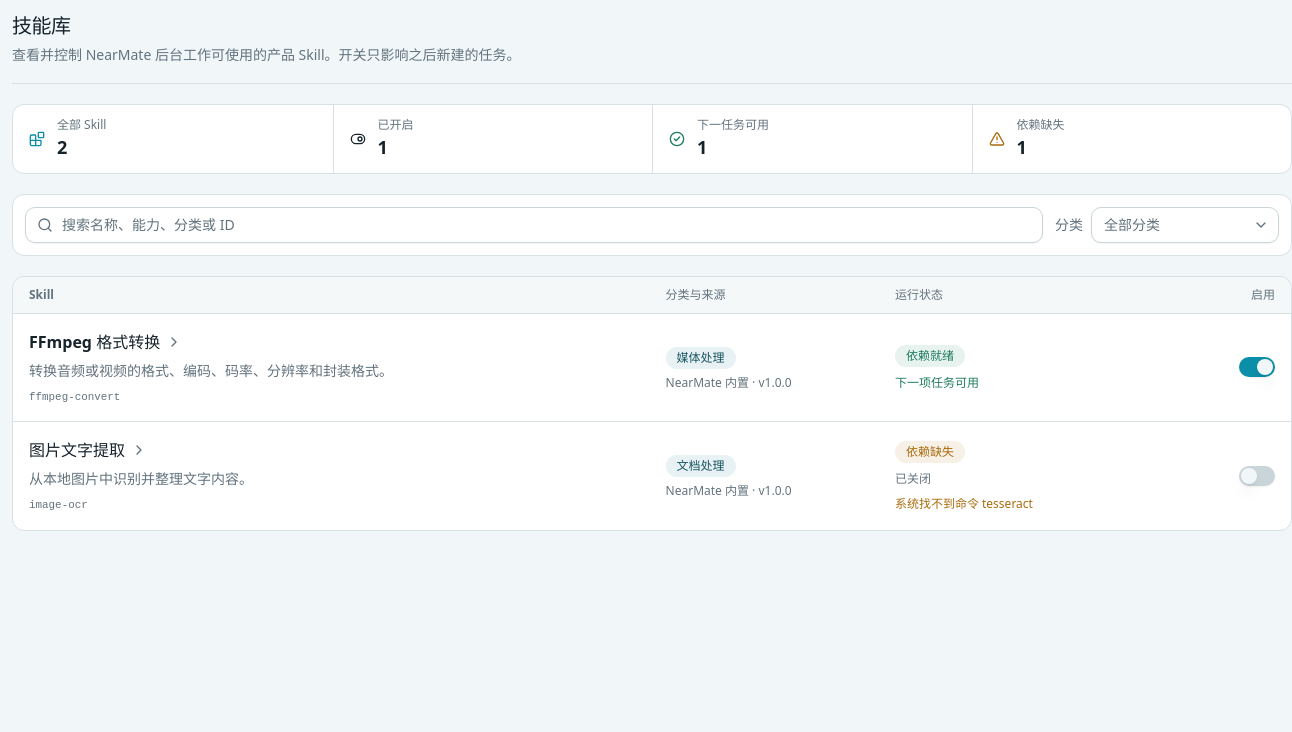
Test: skill library page › 版本冲突时展示原因并重新读取权威列表
Click the switch named "关闭 FFmpeg 格式转换" at [1257, 367], box x1=1239 y1=357 x2=1275 y2=377
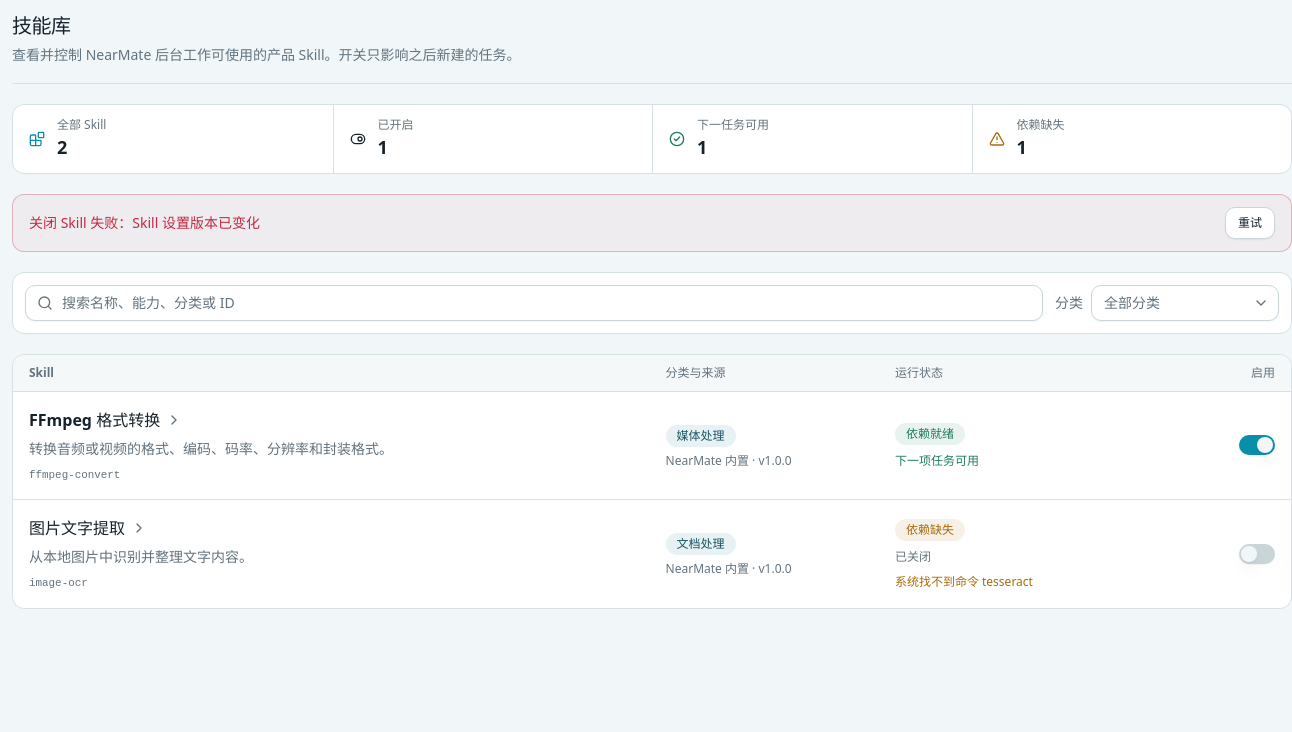
Expected: the text "关闭 Skill 失败：Skill 设置版本已变化" is shown, x1=29 y1=213 x2=260 y2=232
